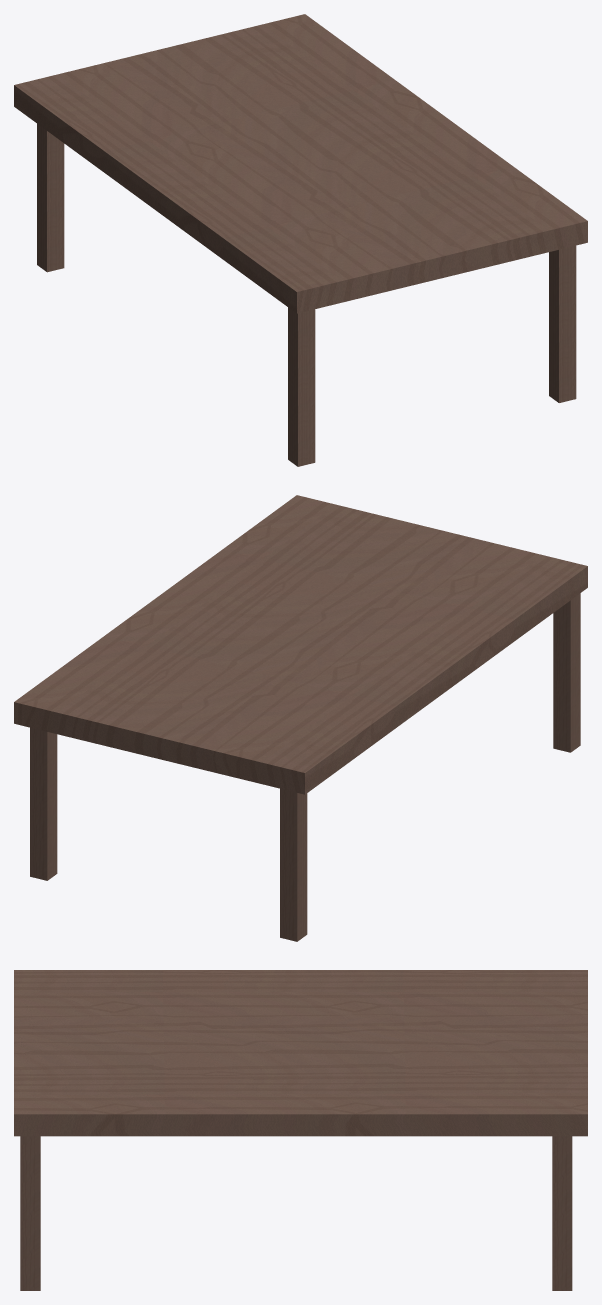
Rendered from Table.fbx.
The picture shows the model from 3 angles, top to bottom: view 1: azimuth 30°, elevation 25°; view 2: azimuth 150°, elevation 25°; view 3: azimuth 270°, elevation 25°; orthographic projection.
Parts seen in each view (by area): view 1: tABLE; view 2: tABLE; view 3: tABLE.
Boxes of the visible parts, bbox=[...] form: tABLE: bbox=[14, 14, 587, 466]; tABLE: bbox=[14, 495, 587, 941]; tABLE: bbox=[14, 970, 587, 1290].
Size of the model in its own units: 278 by 163 by 468.
